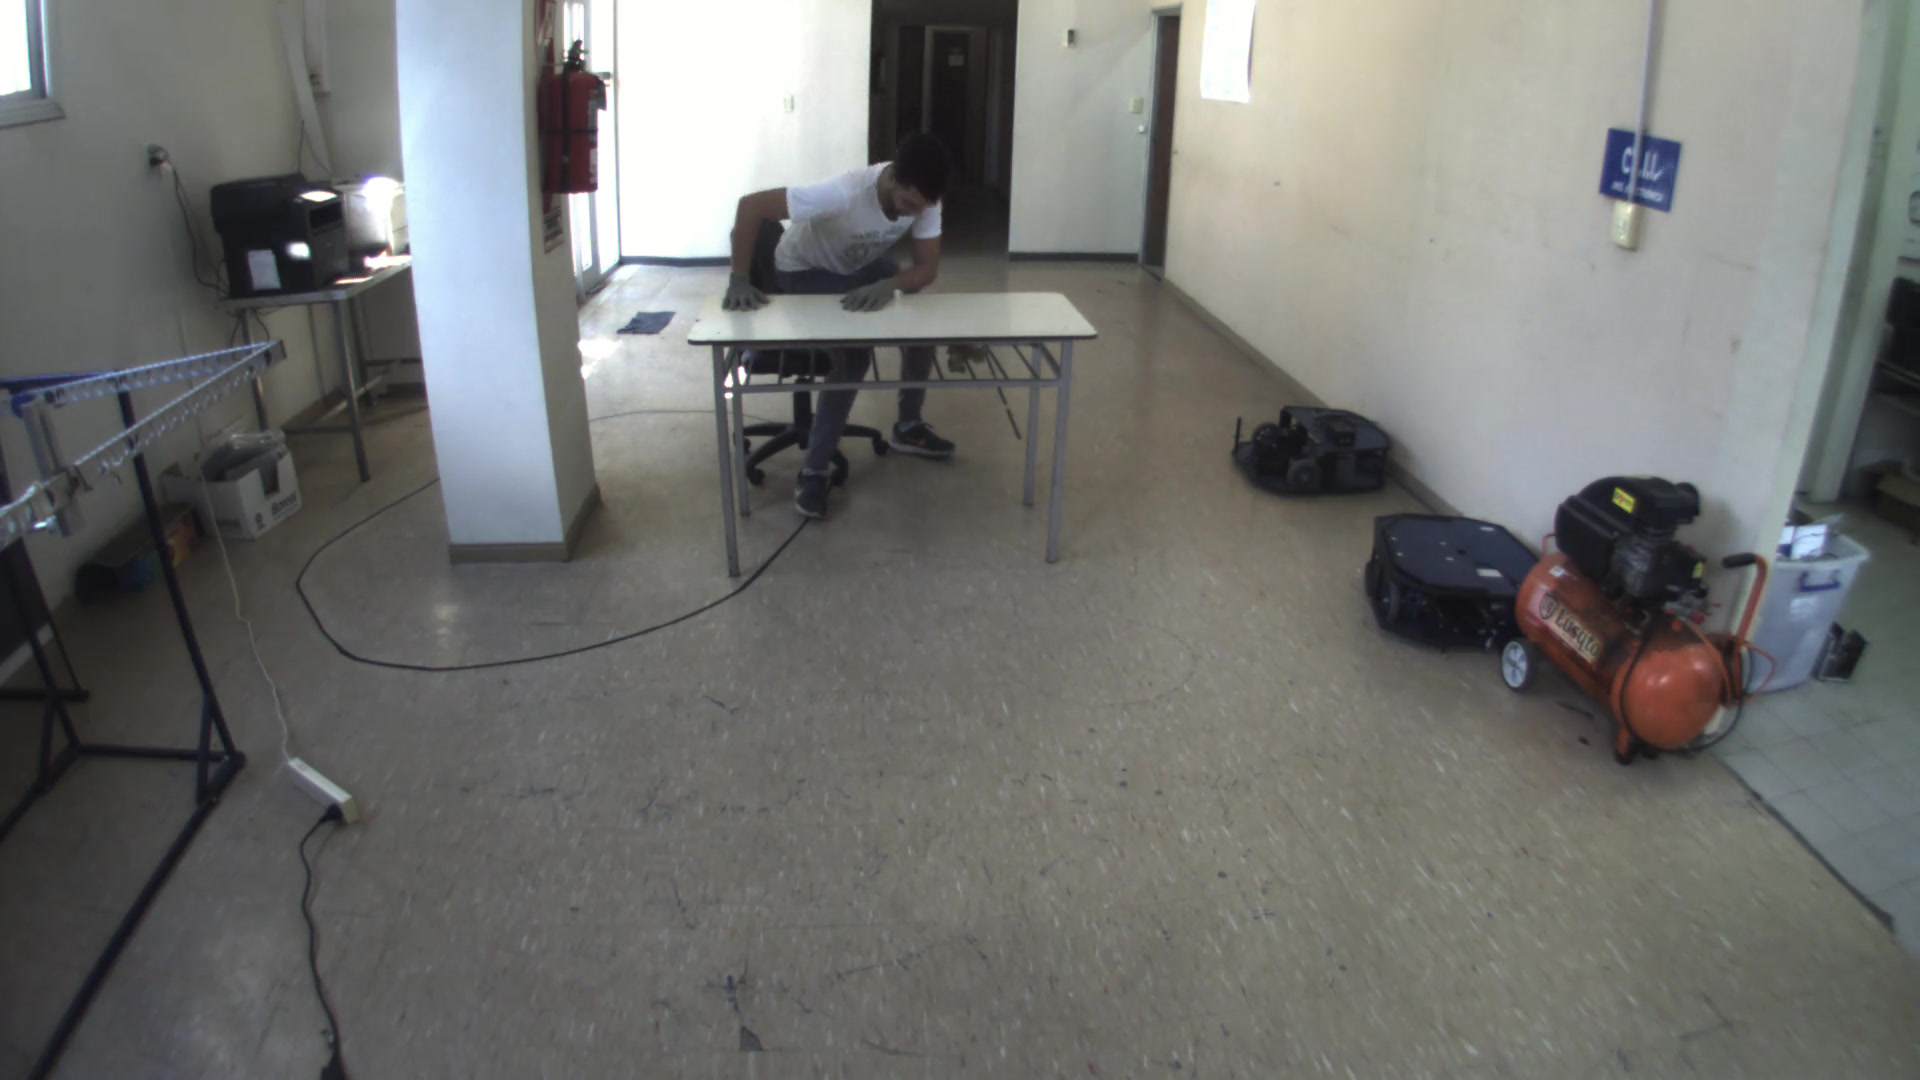hand: (694, 265, 777, 334), (835, 273, 899, 330)
